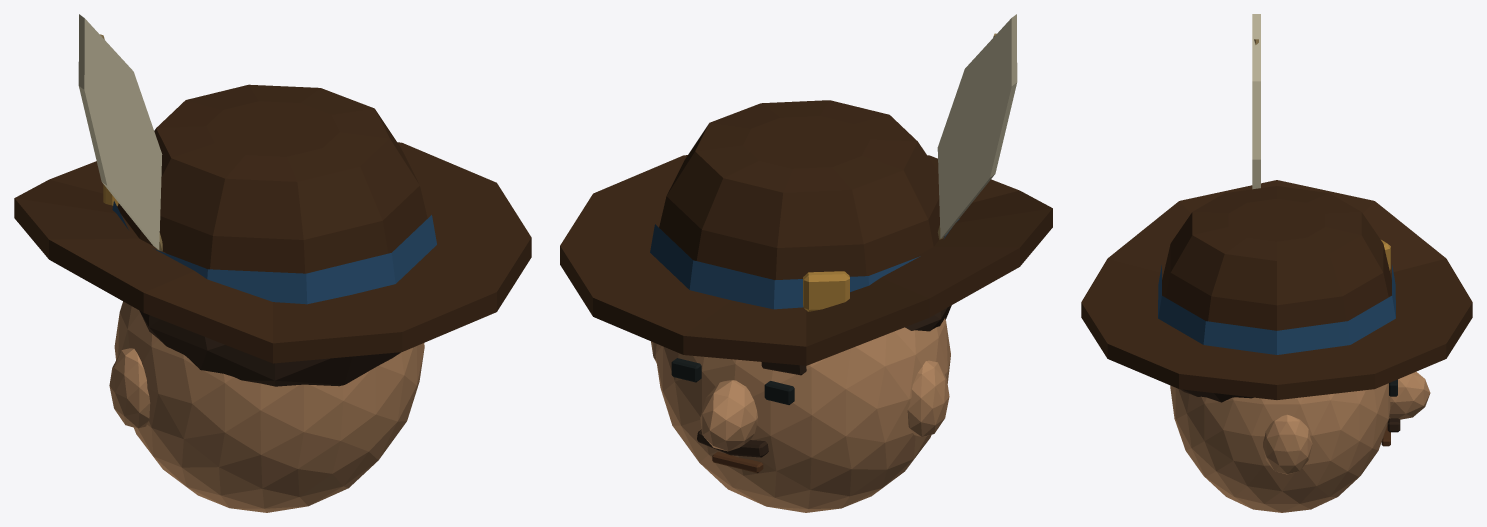
Rendered from Head.glb.
3 views of the same model, side by side, from view 1: azimuth 30°, elevation 25°; view 2: azimuth 150°, elevation 25°; view 3: azimuth 270°, elevation 25° (orthographic). The views are drawn at different scales.
Visible parts, largest first — view 1: Sculpture; view 2: Sculpture; view 3: Sculpture.
Part boxes in pixels (x1,y1,x2,y2): Sculpture: [14, 14, 531, 512]; Sculpture: [560, 14, 1052, 512]; Sculpture: [1081, 14, 1472, 512].
Size of the model in its own units: 0.77 by 0.8988 by 0.77.
